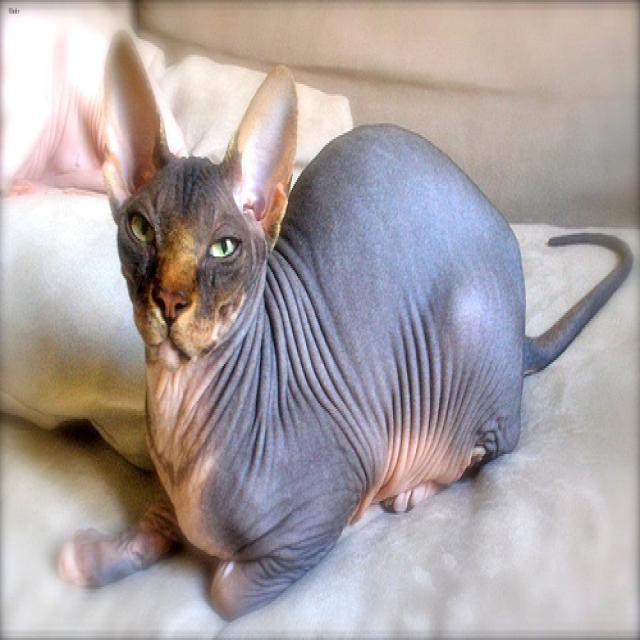Sphynx: (100, 20, 297, 368)
